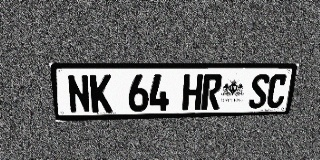4: (149, 74, 170, 111)
6: (128, 74, 149, 112)
C: (265, 74, 288, 108)
H: (182, 74, 203, 110)
K: (89, 74, 112, 113)
N: (66, 74, 91, 113)
R: (201, 74, 223, 110)
S: (248, 74, 270, 109)
